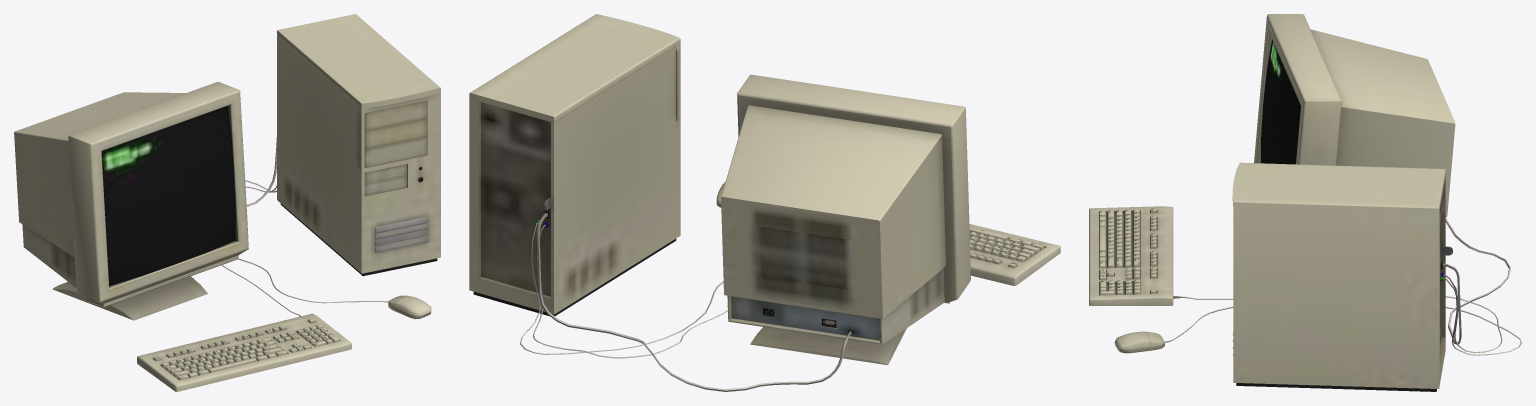
Rendered from computer.glb.
The picture shows the model from 3 angles, left to right: view 1: azimuth 30°, elevation 25°; view 2: azimuth 150°, elevation 25°; view 3: azimuth 270°, elevation 25°; orthographic projection. The views are drawn at different scales.
Visible parts, largest first — view 1: retro_computer_setup; view 2: retro_computer_setup; view 3: retro_computer_setup.
Boxes of the visible parts, x1,y1,x2,y2 form: retro_computer_setup: [14, 14, 440, 391]; retro_computer_setup: [469, 14, 1060, 391]; retro_computer_setup: [1089, 14, 1521, 391].
Size of the model in its own units: 96.81 by 49.28 by 96.94.
1 material, 1 textured.
